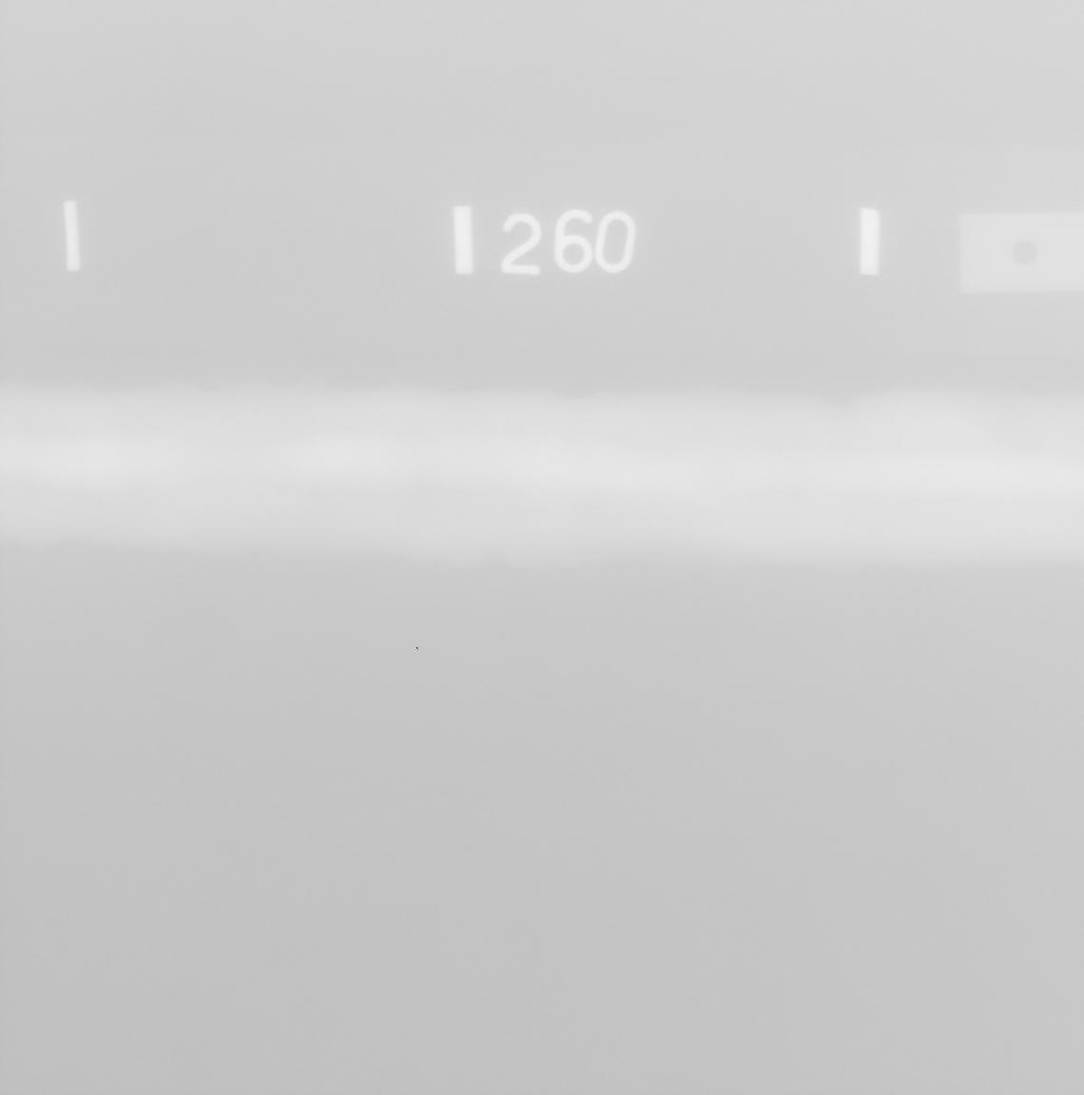Pore/Porosity: (281, 483, 289, 495), (544, 476, 555, 480)
